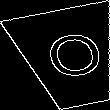O_S: (36, 28, 105, 88)
